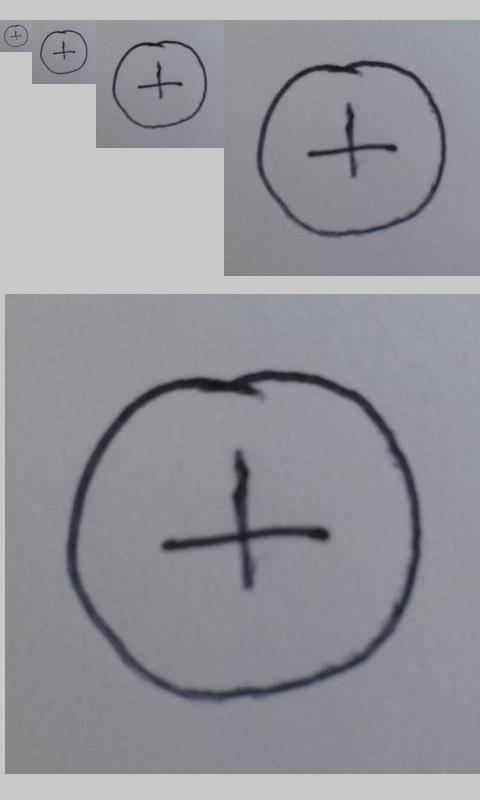button: (63, 369, 423, 706), (257, 59, 447, 238), (112, 40, 208, 129), (39, 29, 88, 75), (3, 24, 28, 48)
